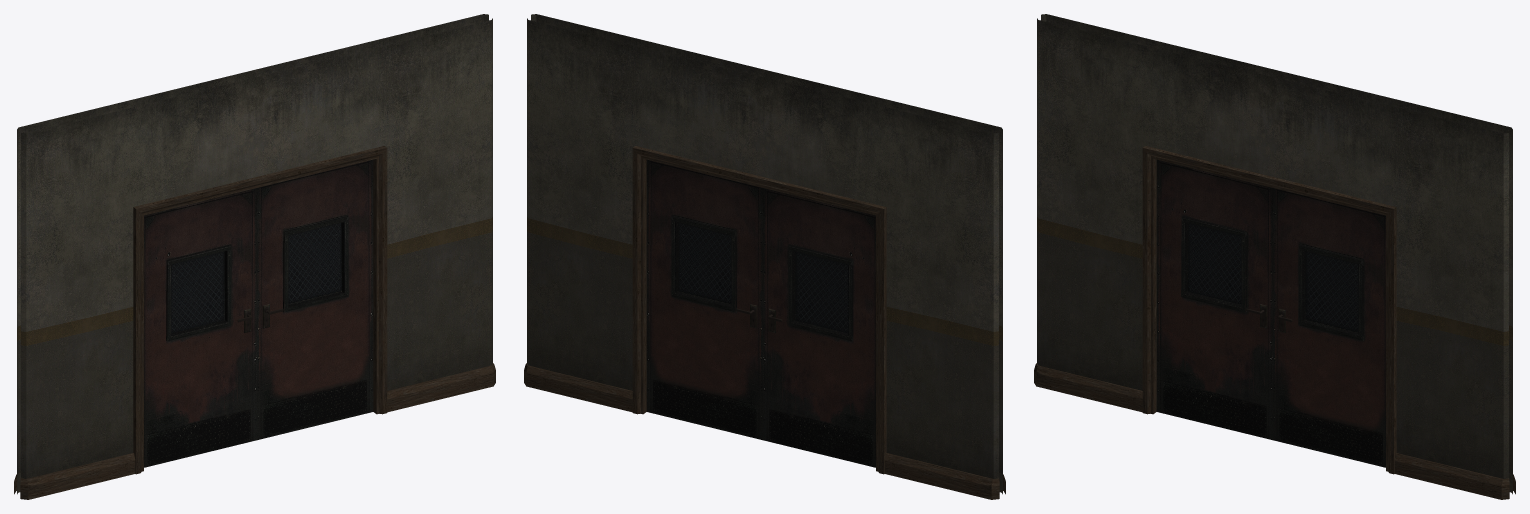
Rendered from doorway_2_wide.obj.
3 renders of one model, left to right at view 1: azimuth 30°, elevation 25°; view 2: azimuth 150°, elevation 25°; view 3: azimuth 330°, elevation 25°, orthographic.
Parts seen in each view (by area): view 1: doorway_2_wide, double_door_4_piece_2, double_door_4_piece_1; view 2: doorway_2_wide, double_door_4_piece_2, double_door_4_piece_1; view 3: doorway_2_wide, double_door_4_piece_1, double_door_4_piece_2.
Boxes of the visible parts, x1,y1,x2,y2 form: doorway_2_wide: (14, 14, 495, 499); double_door_4_piece_2: (257, 159, 373, 440); double_door_4_piece_1: (144, 188, 256, 467); doorway_2_wide: (524, 14, 1005, 499); double_door_4_piece_2: (646, 159, 762, 440); double_door_4_piece_1: (763, 188, 875, 467); doorway_2_wide: (1034, 14, 1515, 499); double_door_4_piece_1: (1156, 159, 1272, 440); double_door_4_piece_2: (1273, 188, 1385, 467).
Size of the model in its own units: 4.09 by 3 by 0.2.
